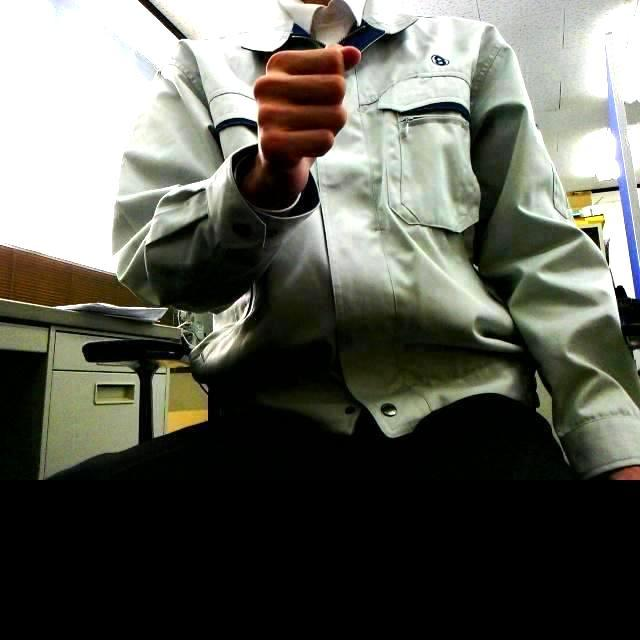gu-: (253, 45, 360, 164)
